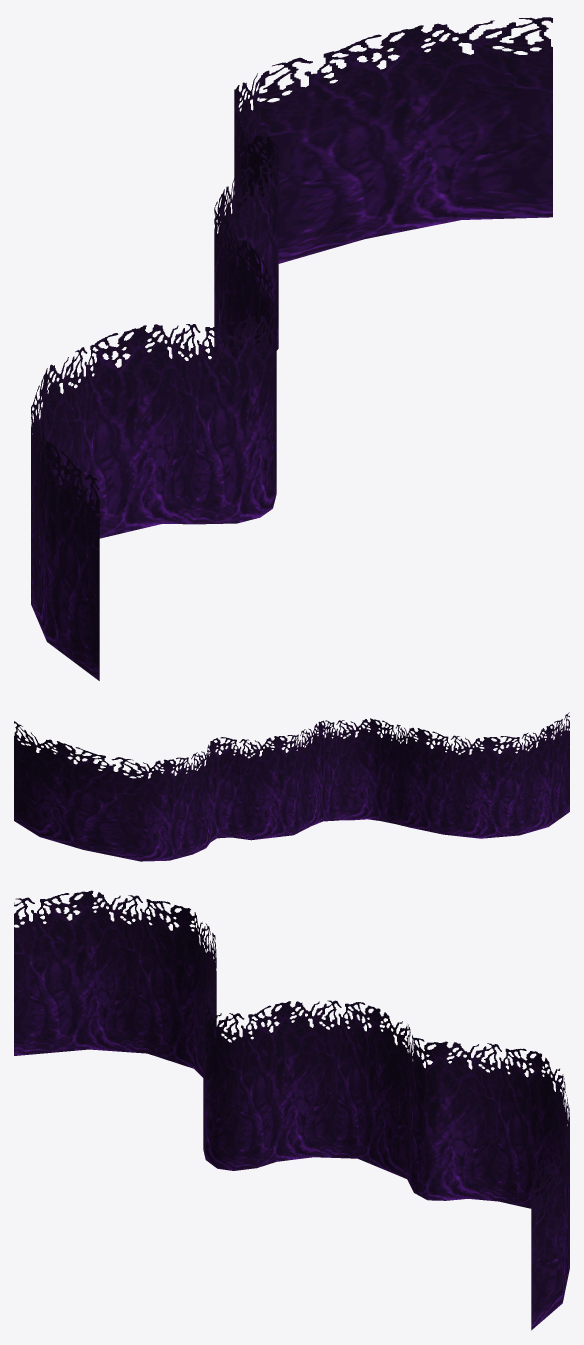
Rendered from EKH_ENTRANCE_PS_EN_TREE_8480.fbx.
3 views of the same model, one above another, from view 1: azimuth 30°, elevation 25°; view 2: azimuth 150°, elevation 25°; view 3: azimuth 270°, elevation 25° (orthographic). The views are drawn at different scales.
Parts seen in each view (by area): view 1: EKH_ENTRANCE_PS_EN_TREE_8480; view 2: EKH_ENTRANCE_PS_EN_TREE_8480; view 3: EKH_ENTRANCE_PS_EN_TREE_8480.
Boxes of the visible parts, bbox=[...] form: EKH_ENTRANCE_PS_EN_TREE_8480: bbox=[31, 17, 552, 680]; EKH_ENTRANCE_PS_EN_TREE_8480: bbox=[14, 712, 569, 861]; EKH_ENTRANCE_PS_EN_TREE_8480: bbox=[14, 890, 569, 1330].
Size of the model in its own units: 518313 by 147780 by 403616.
1 material, 1 textured.
